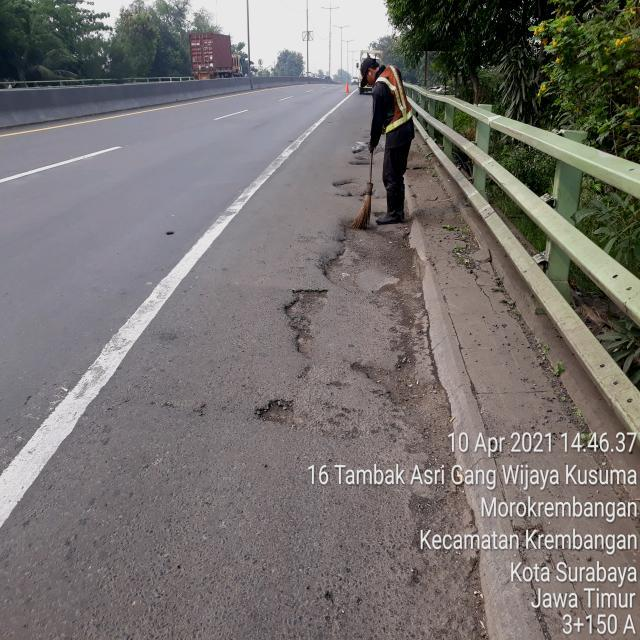Buraco: (348, 325, 444, 412), (314, 218, 418, 298), (282, 288, 331, 355), (252, 398, 306, 426), (330, 177, 388, 201), (347, 140, 386, 167), (371, 210, 387, 218), (164, 230, 176, 237)
